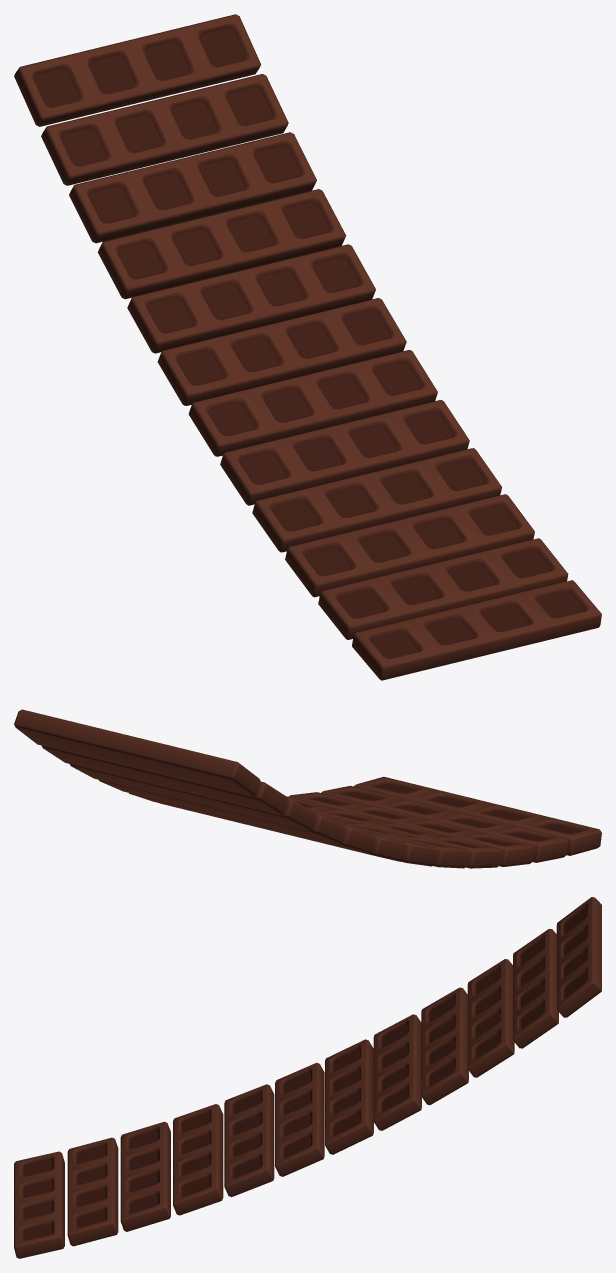
The model's file is BridgeChocolate_01.glb.
3 renders of one model, top to bottom at view 1: azimuth 30°, elevation 25°; view 2: azimuth 150°, elevation 25°; view 3: azimuth 270°, elevation 25°, orthographic. The views are drawn at different scales.
Parts seen in each view (by area): view 1: BridgeChocolate_01; view 2: BridgeChocolate_01; view 3: BridgeChocolate_01.
Boxes of the visible parts, x1,y1,x2,y2 form: BridgeChocolate_01: (14,14,601,680); BridgeChocolate_01: (14,709,601,868); BridgeChocolate_01: (14,897,601,1258).
Size of the model in its own units: 4.07 by 6.14 by 11.77.
1 material, 1 textured.
